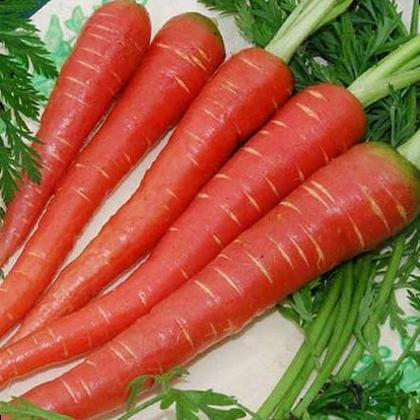carrot: (39, 14, 336, 364)
